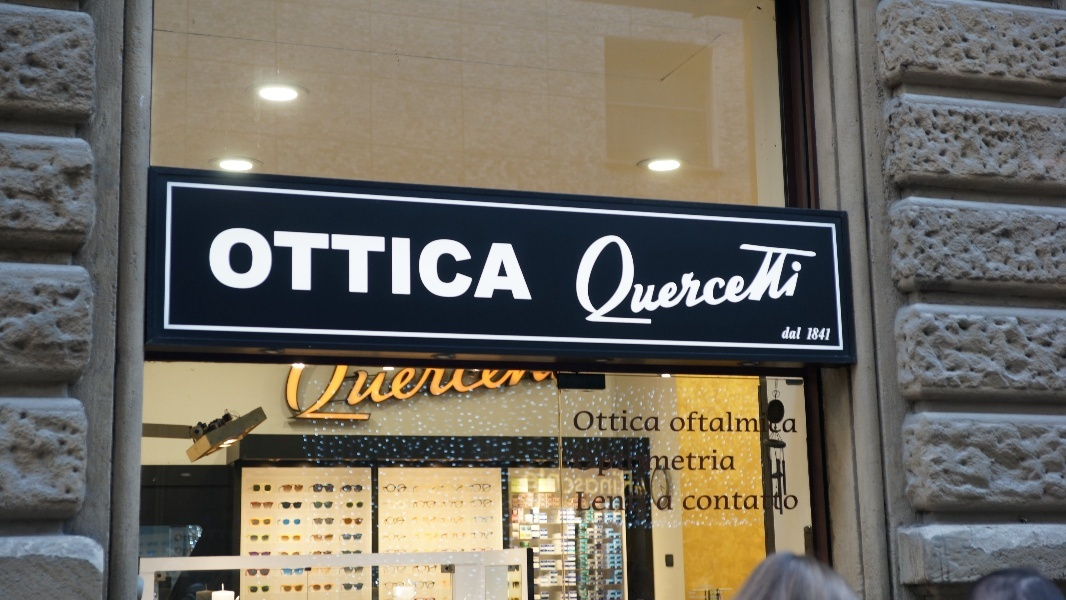text: (593, 227, 608, 329), (609, 227, 624, 329), (625, 227, 640, 329), (641, 227, 656, 329), (657, 227, 672, 329), (673, 227, 688, 329), (689, 227, 704, 329), (705, 227, 720, 329), (721, 227, 736, 329), (737, 227, 752, 329), (753, 227, 768, 329), (769, 227, 784, 329), (785, 227, 800, 329), (801, 227, 816, 329), (225, 224, 240, 303), (241, 224, 256, 303), (257, 224, 272, 303), (273, 224, 288, 303), (289, 224, 304, 303), (305, 224, 320, 303), (321, 224, 336, 303), (337, 224, 352, 303), (353, 224, 368, 303), (369, 224, 384, 303), (385, 224, 400, 303), (401, 224, 416, 303), (417, 224, 432, 303), (433, 224, 448, 303), (449, 224, 464, 303), (465, 224, 480, 303), (481, 224, 496, 303), (497, 224, 512, 303), (513, 224, 528, 303), (289, 357, 304, 435), (305, 357, 320, 435), (321, 357, 336, 435), (337, 357, 352, 435), (353, 357, 368, 435), (369, 357, 384, 435), (385, 357, 400, 435), (401, 357, 416, 435), (417, 357, 432, 435), (433, 357, 448, 435), (449, 357, 464, 435), (465, 357, 480, 435), (481, 357, 496, 435), (497, 357, 512, 435), (513, 357, 528, 435), (529, 357, 544, 435), (210, 224, 224, 303), (545, 357, 559, 435), (586, 227, 592, 329), (529, 224, 536, 303), (529, 466, 544, 495), (545, 466, 560, 495), (561, 466, 576, 495), (577, 466, 592, 495), (593, 466, 608, 495), (609, 466, 624, 495), (721, 450, 737, 476), (817, 227, 821, 329), (577, 450, 592, 476), (593, 450, 608, 476), (609, 450, 624, 476), (625, 450, 640, 476), (641, 450, 656, 476), (657, 450, 672, 476), (673, 450, 688, 476), (689, 450, 704, 476), (705, 450, 720, 476), (673, 411, 688, 434), (689, 411, 704, 434), (705, 411, 720, 434), (721, 411, 736, 434), (737, 411, 752, 434), (753, 411, 768, 434), (769, 411, 784, 434), (577, 410, 592, 432), (593, 410, 608, 432), (609, 410, 624, 432), (625, 410, 640, 432), (641, 410, 656, 432), (577, 489, 592, 511), (593, 489, 608, 511), (609, 489, 624, 511), (625, 489, 640, 511), (785, 411, 799, 434), (689, 491, 704, 511), (705, 491, 720, 511), (721, 491, 736, 511), (737, 491, 752, 511), (753, 491, 768, 511), (769, 491, 784, 511), (785, 491, 799, 511), (817, 326, 833, 343), (625, 466, 634, 495), (785, 325, 800, 341), (657, 495, 672, 511), (520, 466, 528, 495), (641, 489, 648, 511), (808, 326, 816, 343), (657, 410, 661, 432), (684, 491, 688, 511), (287, 357, 288, 435), (669, 411, 672, 434), (573, 410, 576, 432), (574, 450, 576, 476), (782, 325, 784, 341), (801, 325, 803, 341), (673, 495, 674, 511)
